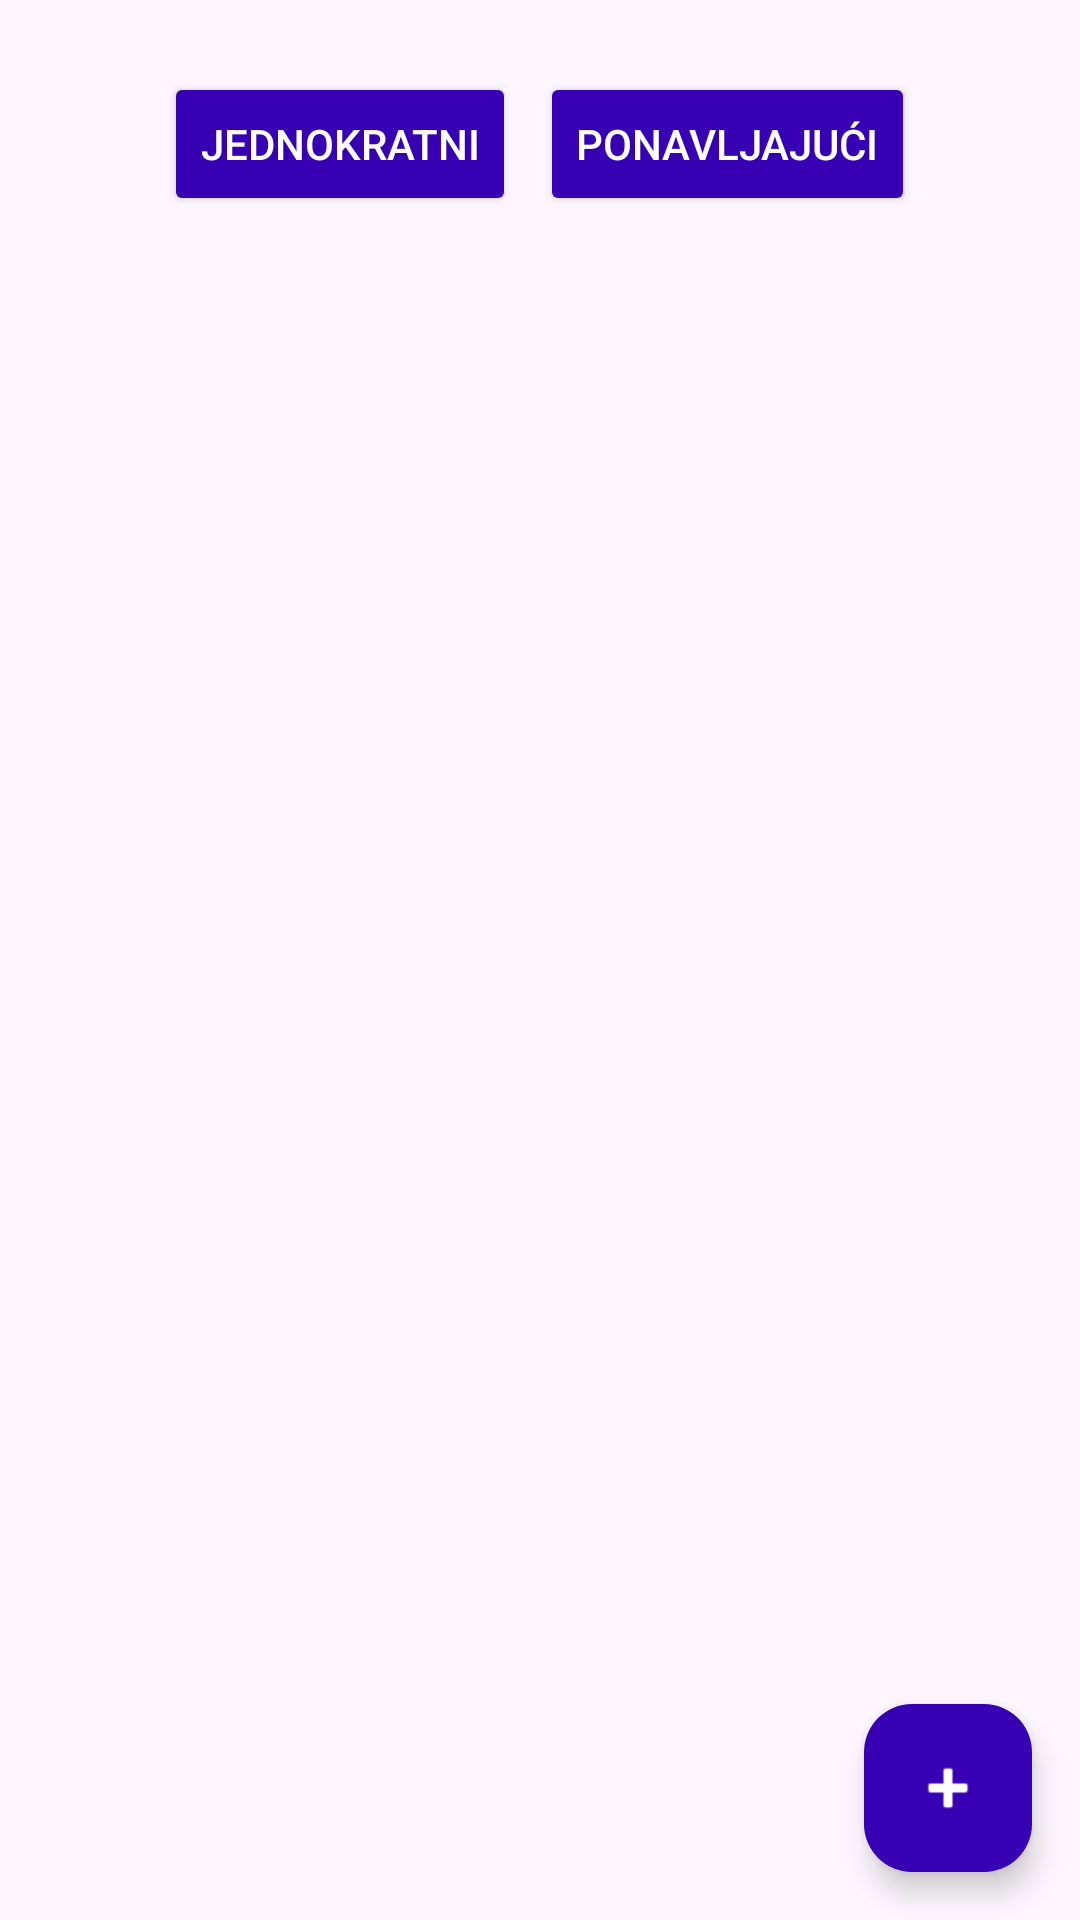

Screen size 1080w x 1920h. Icon name, then its box in pixels as (x1, y1, x2, y2):
Dodaj zadatak: (864, 1704, 1032, 1872)
